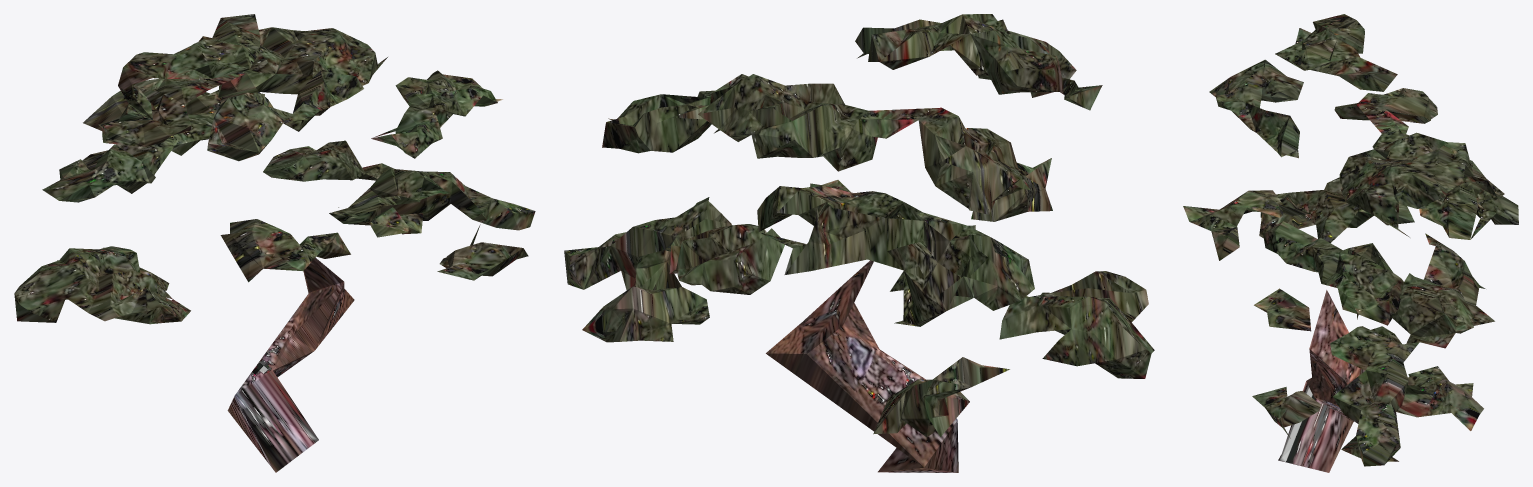
The model's file is pine-mobile.glb.
The picture shows the model from 3 angles, left to right: view 1: azimuth 30°, elevation 25°; view 2: azimuth 150°, elevation 25°; view 3: azimuth 270°, elevation 25°; orthographic projection. The views are drawn at different scales.
Visible parts, largest first — view 1: geometry_0; view 2: geometry_0; view 3: geometry_0.
Part boxes in pixels (bbox=[...]): geometry_0: bbox=[14, 14, 535, 472]; geometry_0: bbox=[564, 14, 1154, 472]; geometry_0: bbox=[1183, 14, 1518, 472].
Bounding box in the file's own units: 0.971 × 0.7599 × 0.5705.
Materials: 1 (1 with a texture image).
